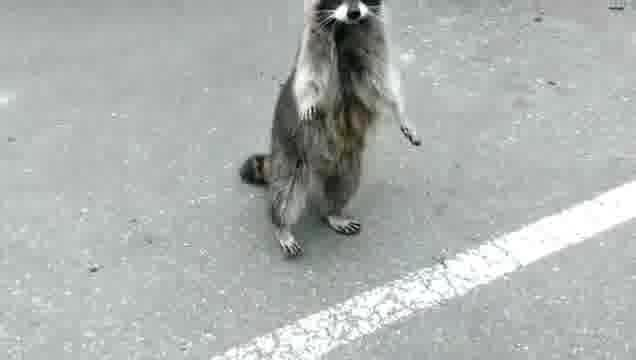raccoon: (231, 0, 422, 261)
